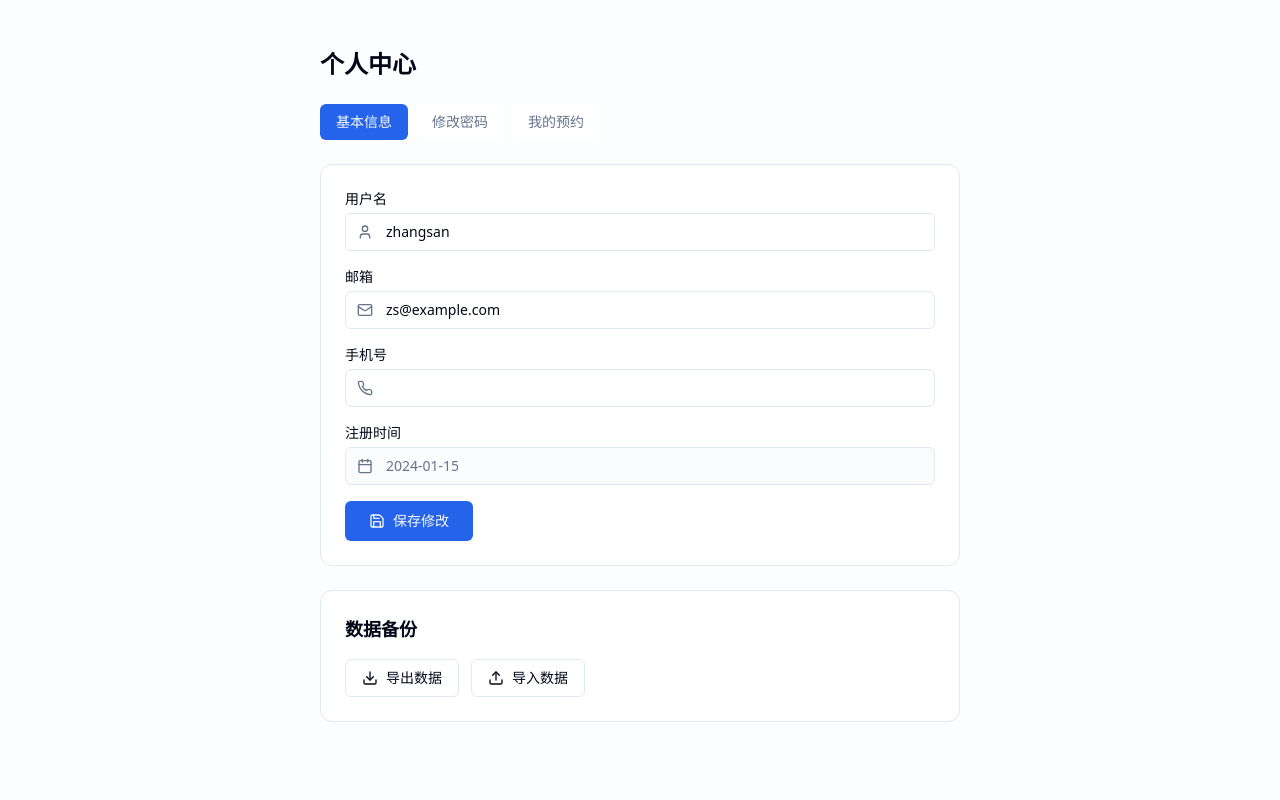
Test case: Profile Page › shows toast when passwords do not match
Click the button "修改密码" at (460, 122), box 416,104 -> 504,140
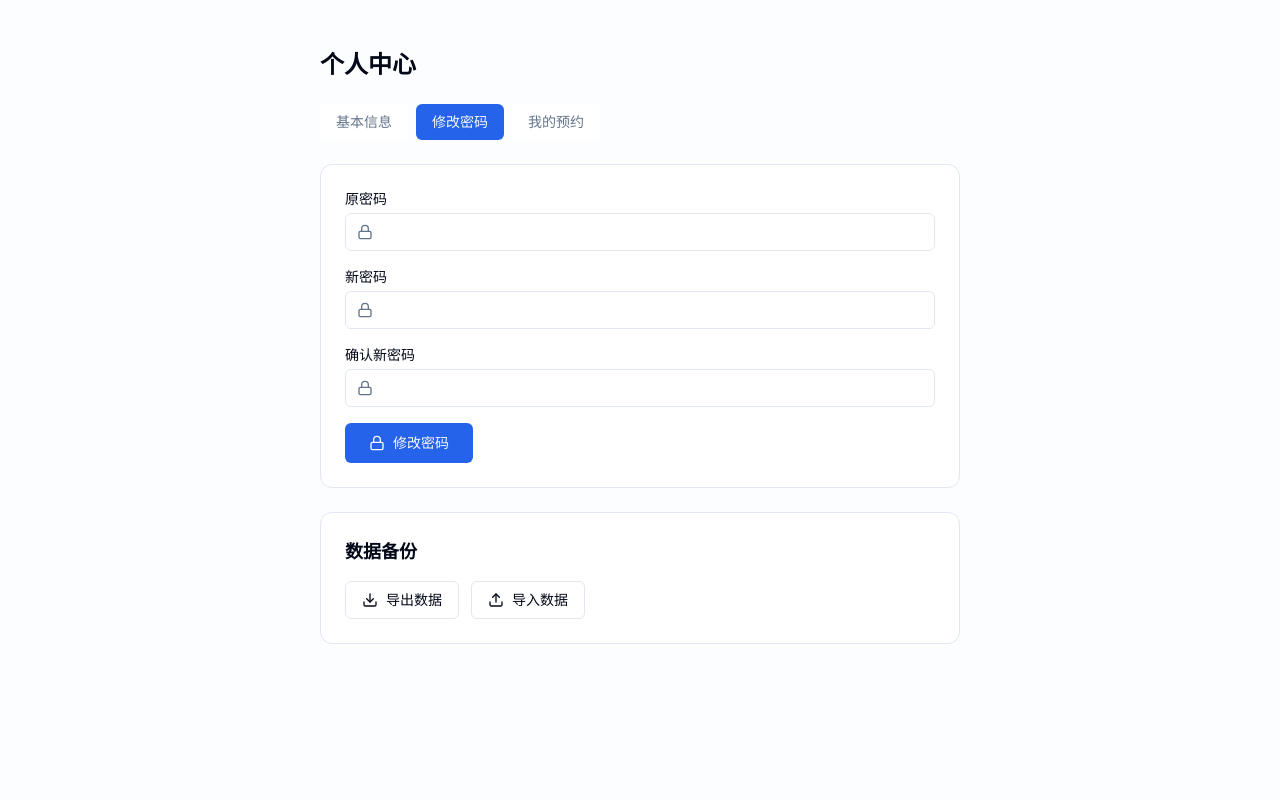
Type "oldpwd" into the password field labelled "原密码" at (640, 232), box 345,213 -> 935,251
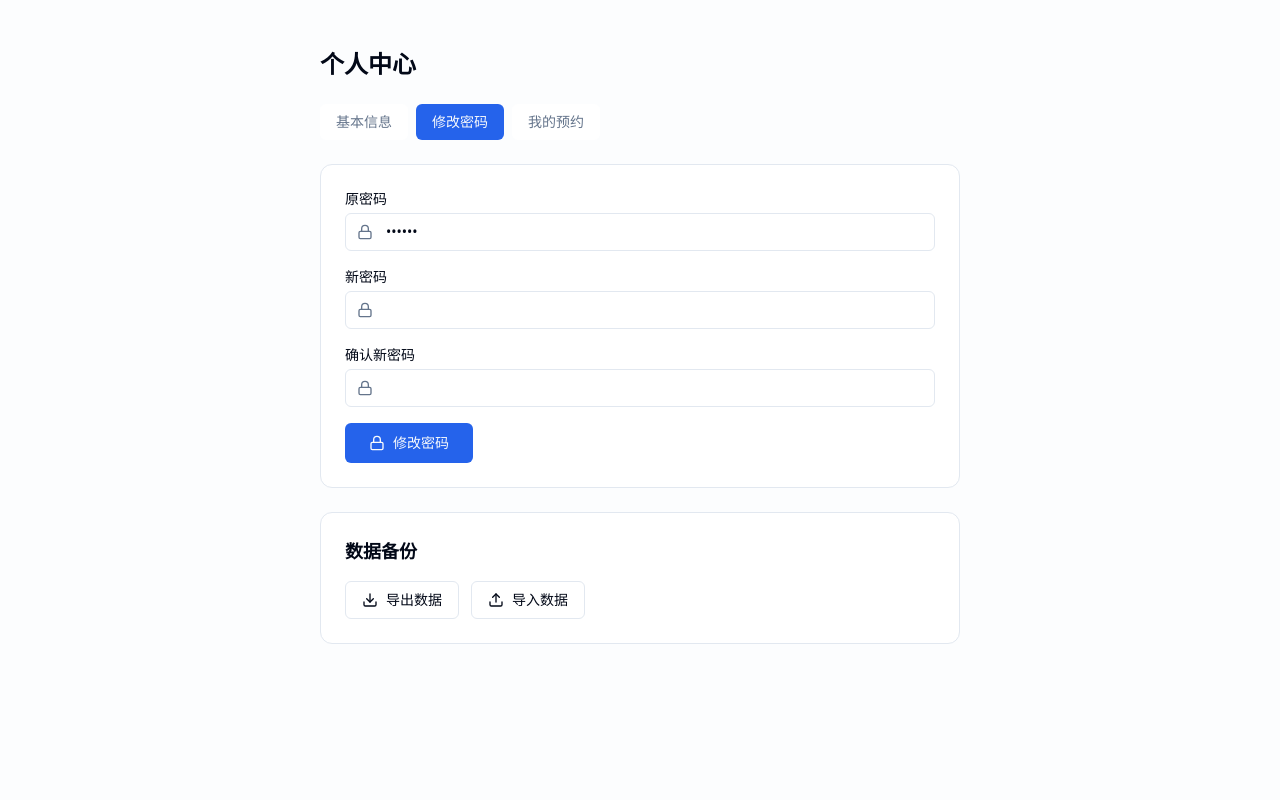
Type "newpwd1" into the password field labelled "新密码" at (640, 310), box 345,291 -> 935,329
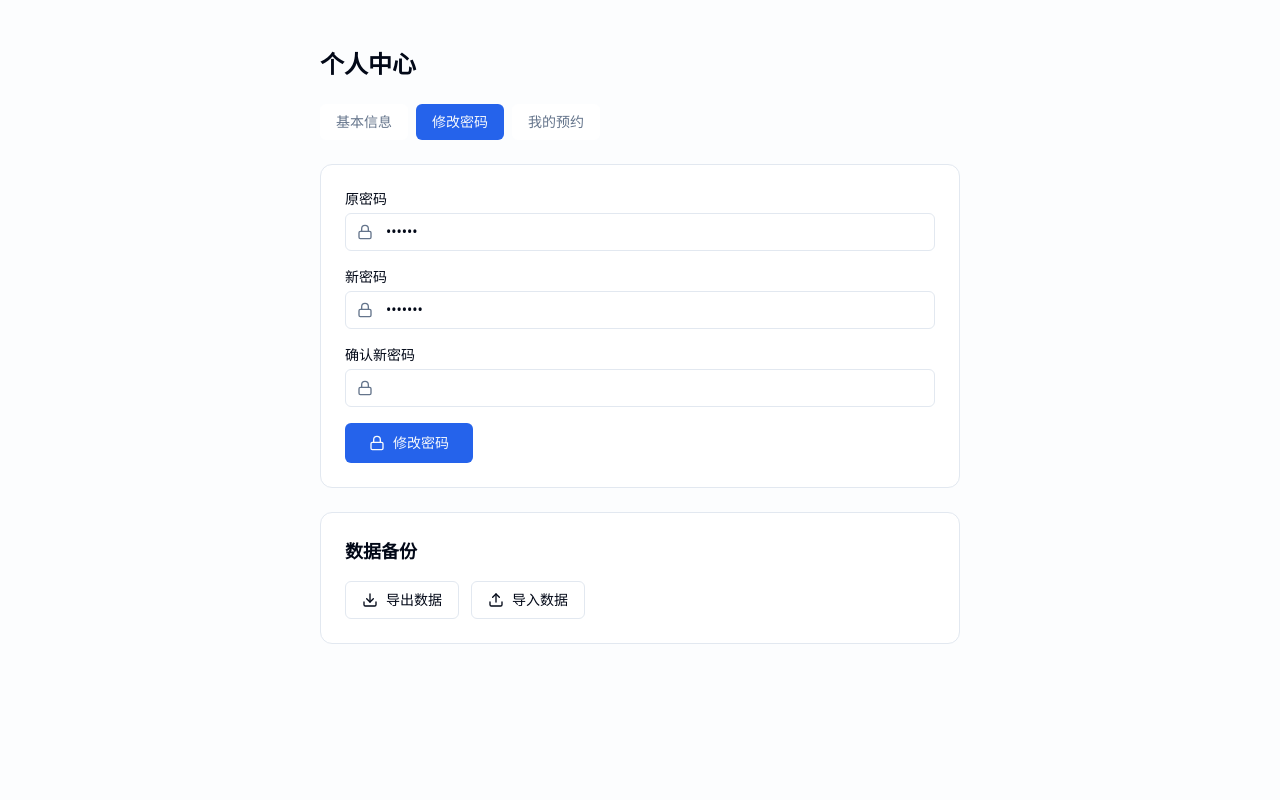
Type "newpwd2" into the password field labelled "确认新密码" at (640, 388), box 345,369 -> 935,407
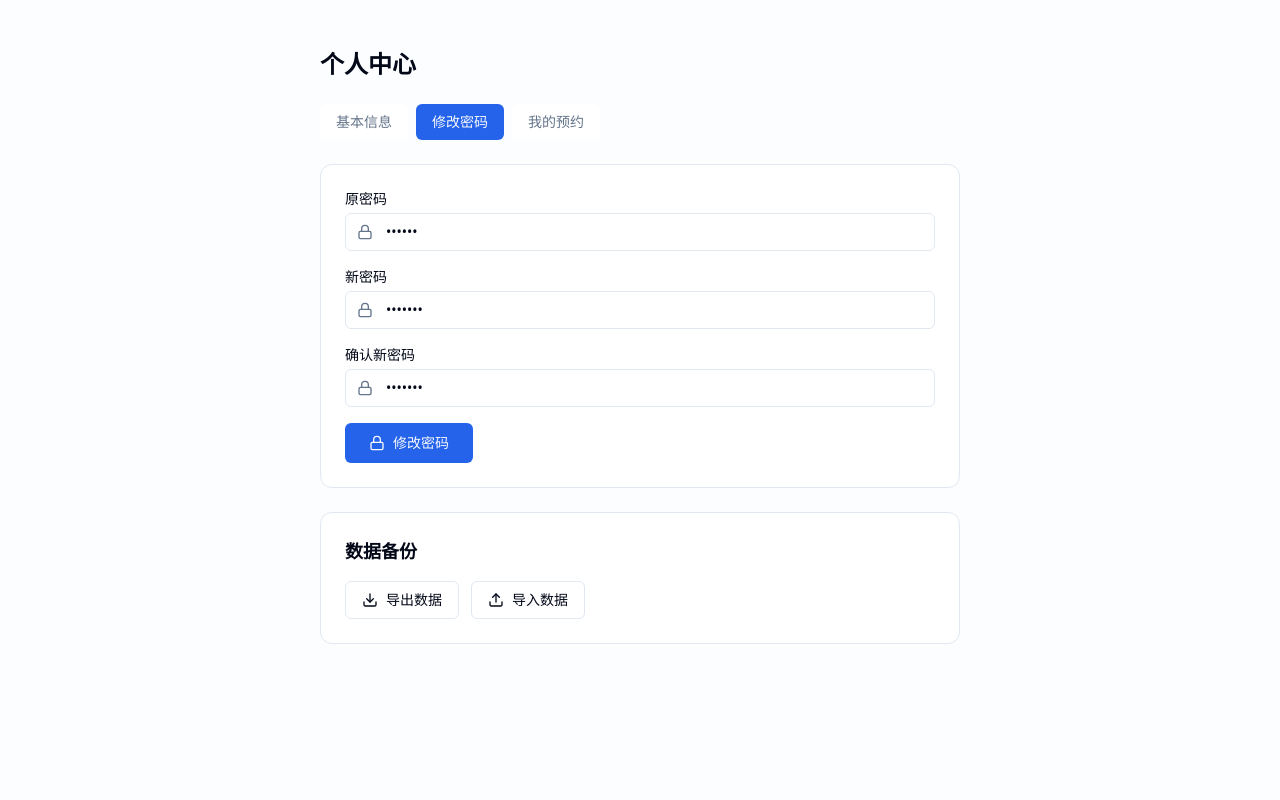
Click the button "修改密码" below "确认新密码" at (409, 443), box 345,423 -> 473,463
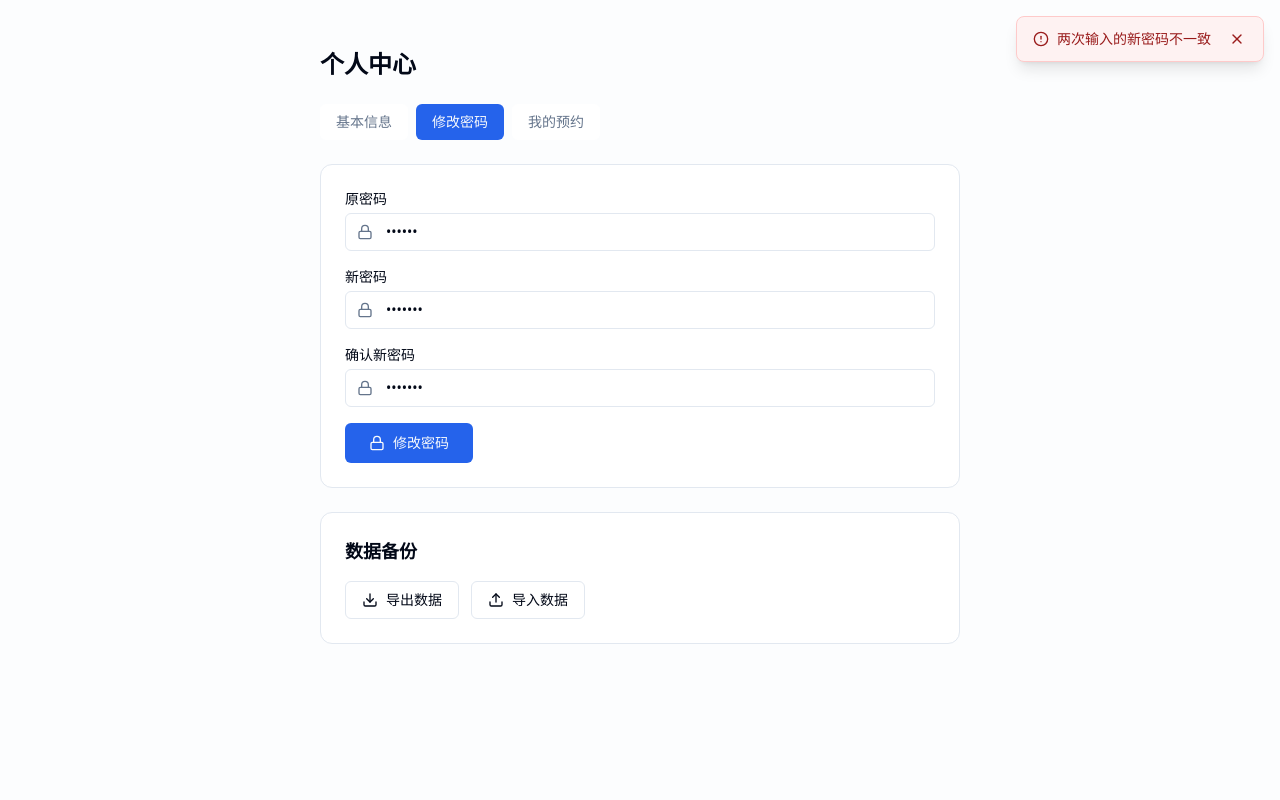
Check: the text "两次输入的新密码不一致" is shown, box 1057,29 -> 1211,49
